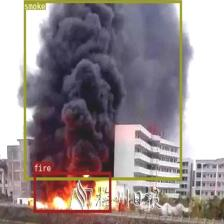fire: (33, 172, 111, 212)
smoke: (23, 0, 181, 179)
